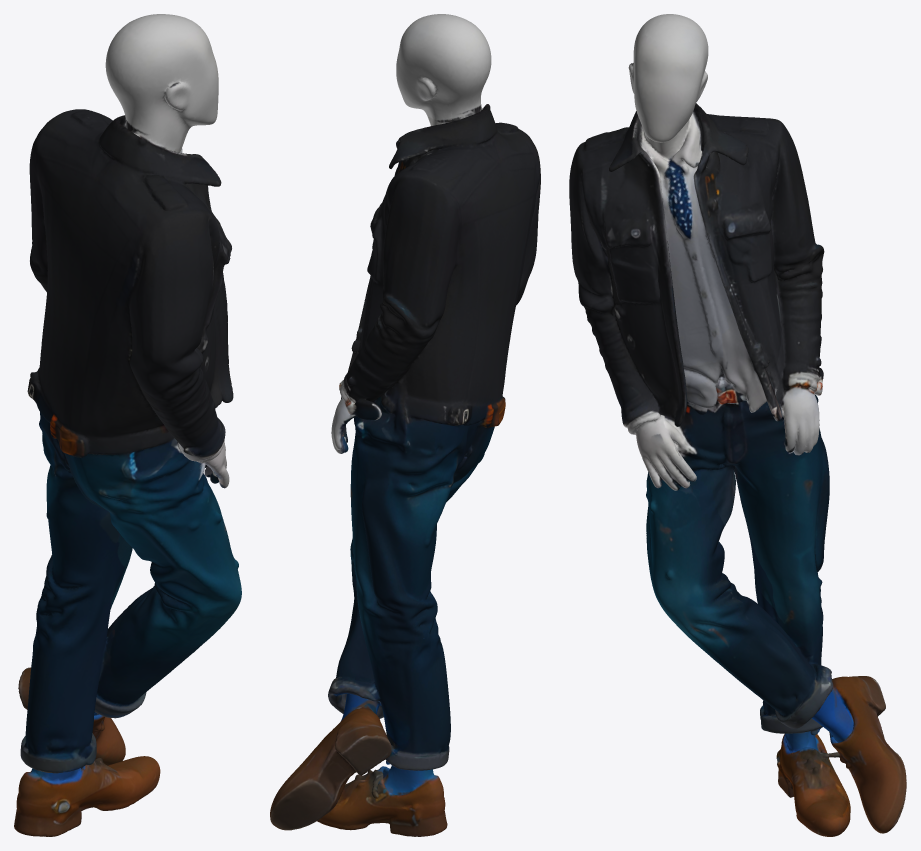
3 renders of one model, left to right at view 1: azimuth 30°, elevation 25°; view 2: azimuth 150°, elevation 25°; view 3: azimuth 270°, elevation 25°, orthographic. The views are drawn at different scales.
Visible parts, largest first — view 1: tripo_node_c24d0675-9abc-4875-b0d6-4dffaf20997c; view 2: tripo_node_c24d0675-9abc-4875-b0d6-4dffaf20997c; view 3: tripo_node_c24d0675-9abc-4875-b0d6-4dffaf20997c.
Boxes of the visible parts, x1,y1,x2,y2 form: tripo_node_c24d0675-9abc-4875-b0d6-4dffaf20997c: (14, 14, 241, 836); tripo_node_c24d0675-9abc-4875-b0d6-4dffaf20997c: (270, 14, 540, 836); tripo_node_c24d0675-9abc-4875-b0d6-4dffaf20997c: (569, 14, 906, 836).
Size of the model in its own units: 0.2068 by 1 by 0.3894.
1 material, 1 textured.
